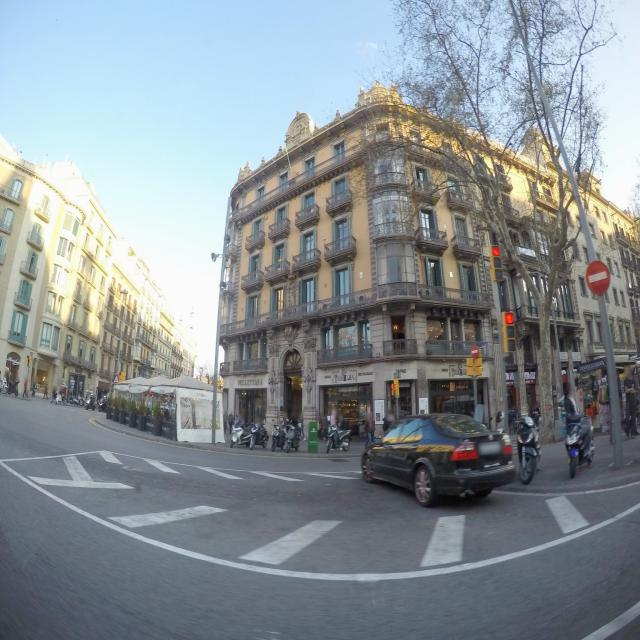bike: (506, 409, 543, 485), (562, 401, 596, 479), (276, 417, 303, 456), (325, 425, 350, 454), (231, 421, 251, 450), (251, 422, 271, 450)
car: (361, 412, 516, 508), (84, 395, 98, 410)
